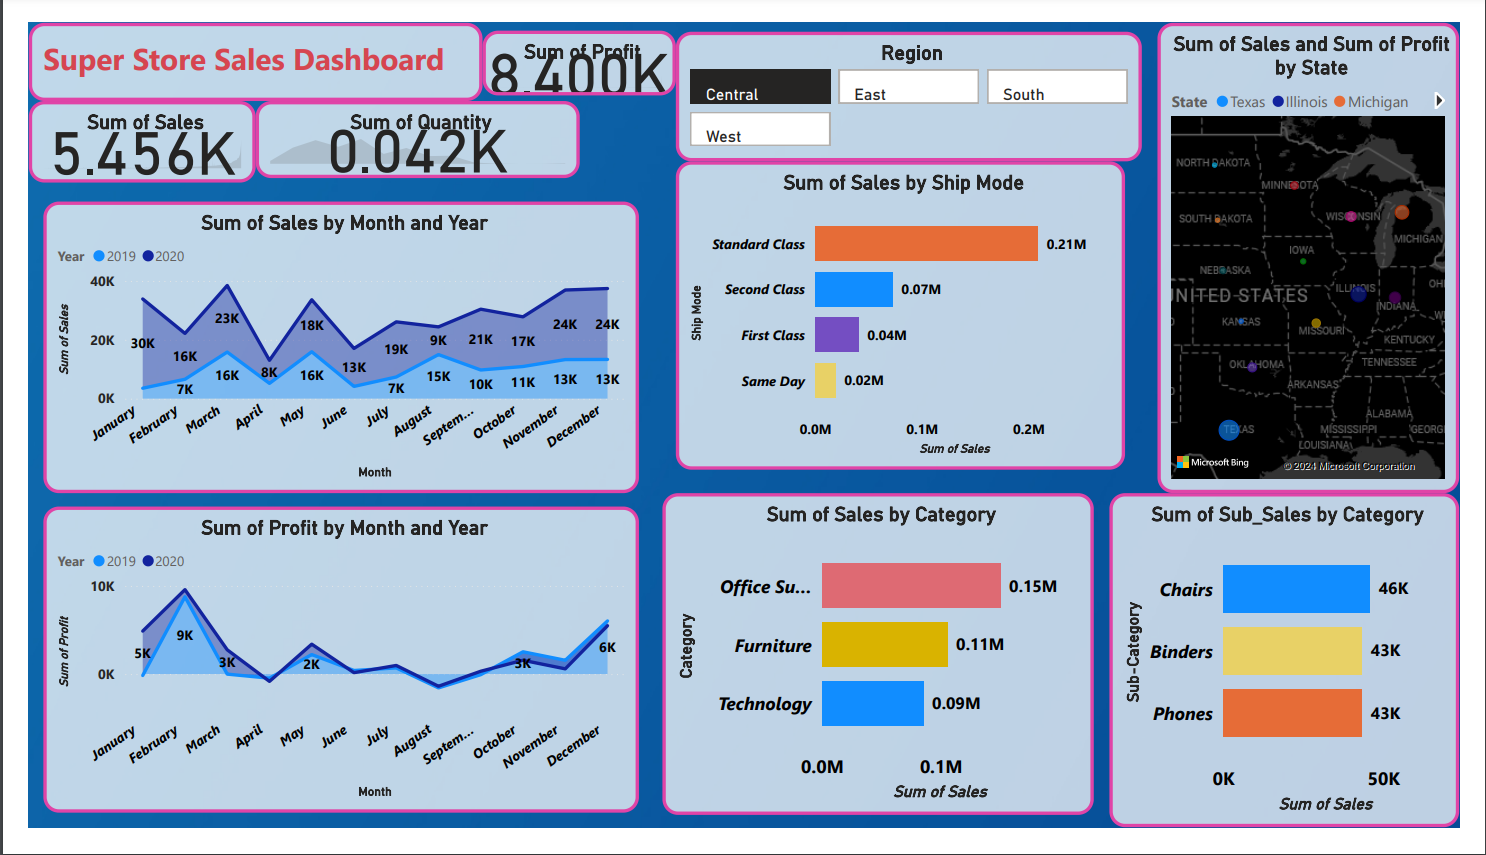

What the dashboard file says about the page in this screenshot:
{"tool":"powerbi","page":{"name":"Page 1","canvas":[1280,720],"ordinal":0},"visuals":[{"type":"barChart","title":"Sum of Sales by Category","fields":{"Category":["SuperStore_Sales_Dataset.Category"],"Y":["Sum(SuperStore_Sales_Dataset.Sales)"]},"box":[567.1,421.4,385.7,287.1],"z":0},{"type":"clusteredBarChart","title":"Sum of Sub_Sales by Category","fields":{"Y":["Sum(SuperStore_Sales_Dataset.Sales)"],"Category":["SuperStore_Sales_Dataset.Sub-Category"]},"box":[967.1,421.4,312.9,298.6],"z":1000},{"type":"clusteredBarChart","title":"Sum of Sales by Ship Mode","fields":{"Y":["Sum(SuperStore_Sales_Dataset.Sales)"],"Category":["SuperStore_Sales_Dataset.Ship Mode"]},"box":[578.6,124.3,402.9,275.7],"z":2000},{"type":"stackedAreaChart","fields":{"Category":["SuperStore_Sales_Dataset.Order Date.Variation.Date Hierarchy.Month"],"Series":["SuperStore_Sales_Dataset.Order Date.Variation.Date Hierarchy.Year"],"Y":["Sum(SuperStore_Sales_Dataset.Sales)"]},"box":[12.9,160,532.9,261.4],"z":3000},{"type":"map","title":"Sum of Sales and Sum of Profit by State ","fields":{"Category":["SuperStore_Sales_Dataset.State"],"Series":["SuperStore_Sales_Dataset.State"],"Size":["Sum(SuperStore_Sales_Dataset.Sales)"]},"box":[1010,0,270,421.4],"z":4000},{"type":"advancedSlicerVisual","fields":{"Values":["SuperStore_Sales_Dataset.Region"]},"box":[578.8,7.5,417.5,116.2],"z":7000},{"type":"textbox","box":[0,0,406.3,69.6],"z":8000},{"type":"kpi","title":"Sum of Sales","fields":{"Indicator":["Sum(SuperStore_Sales_Dataset.Sales)"],"TrendLine":["SuperStore_Sales_Dataset.Sales"]},"box":[0,69.6,203.1,73.7],"z":9000},{"type":"kpi","title":"Sum of Quantity ","fields":{"Indicator":["Sum(SuperStore_Sales_Dataset.Quantity)"],"TrendLine":["SuperStore_Sales_Dataset.Quantity"]},"box":[203.1,69.6,289.4,69.6],"z":10000},{"type":"kpi","title":"Sum of Profit ","fields":{"Indicator":["Sum(SuperStore_Sales_Dataset.Profit)"],"TrendLine":["SuperStore_Sales_Dataset.Profit"]},"box":[406.3,7,172.5,58.4],"z":11000},{"type":"stackedAreaChart","fields":{"Category":["SuperStore_Sales_Dataset.Order Date.Variation.Date Hierarchy.Month"],"Series":["SuperStore_Sales_Dataset.Order Date.Variation.Date Hierarchy.Year"],"Y":["Sum(SuperStore_Sales_Dataset.Profit)"]},"box":[12.9,432.9,532.9,274.3],"z":12000}]}

Visuals, with their boxes in screenshot pixels (x1, y1, x2, y2), scaled from the page's 1280x720 canvas onto the 1486x855 screenshot:
"Sum of Sales by Category" barChart: bbox=[658, 500, 1106, 841]
"Sum of Sub_Sales by Category" clusteredBarChart: bbox=[1123, 500, 1485, 854]
"Sum of Sales by Ship Mode" clusteredBarChart: bbox=[672, 148, 1139, 475]
stackedAreaChart - SuperStore_Sales_Dataset.Order Date.Variation.Date Hierarchy.Month x SuperStore_Sales_Dataset.Order Date.Variation.Date Hierarchy.Year: bbox=[15, 190, 634, 500]
"Sum of Sales and Sum of Profit by State " map: bbox=[1173, 0, 1485, 500]
advancedSlicerVisual - SuperStore_Sales_Dataset.Region: bbox=[672, 9, 1157, 147]
textbox: bbox=[0, 0, 472, 83]
"Sum of Sales" kpi: bbox=[0, 83, 236, 170]
"Sum of Quantity " kpi: bbox=[236, 83, 572, 165]
"Sum of Profit " kpi: bbox=[472, 8, 672, 78]
stackedAreaChart - SuperStore_Sales_Dataset.Order Date.Variation.Date Hierarchy.Month x SuperStore_Sales_Dataset.Order Date.Variation.Date Hierarchy.Year: bbox=[15, 514, 634, 840]
